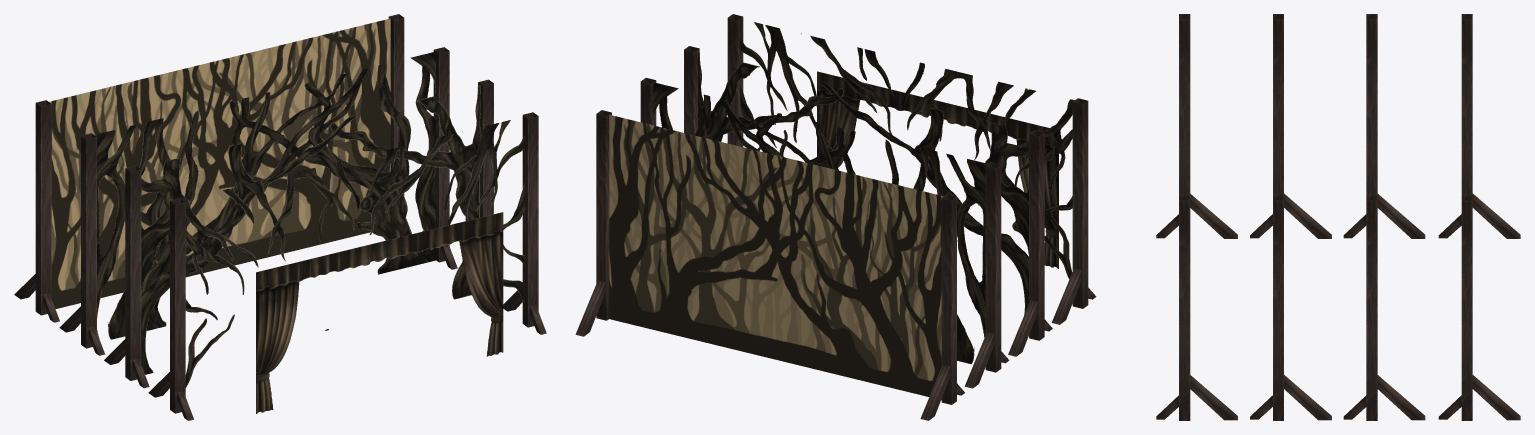
File: Theater.Setpieces.fbx
3 views of the same model, side by side, from view 1: azimuth 30°, elevation 25°; view 2: azimuth 150°, elevation 25°; view 3: azimuth 270°, elevation 25° (orthographic). The views are drawn at different scales.
Parts seen in each view (by area): view 1: Curtains; view 2: Curtains; view 3: Curtains.
Part boxes in pixels (x1,y1,x2,y2): Curtains: (14,14,546,420); Curtains: (575,14,1096,420); Curtains: (1156,14,1520,420).
Bounding box in the file's own units: 795 × 438 × 711.
